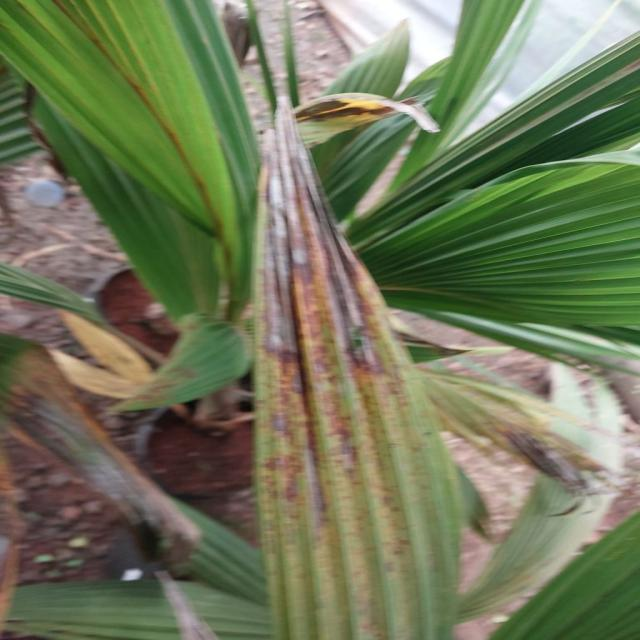gray leaf spot: (252, 110, 455, 640)
